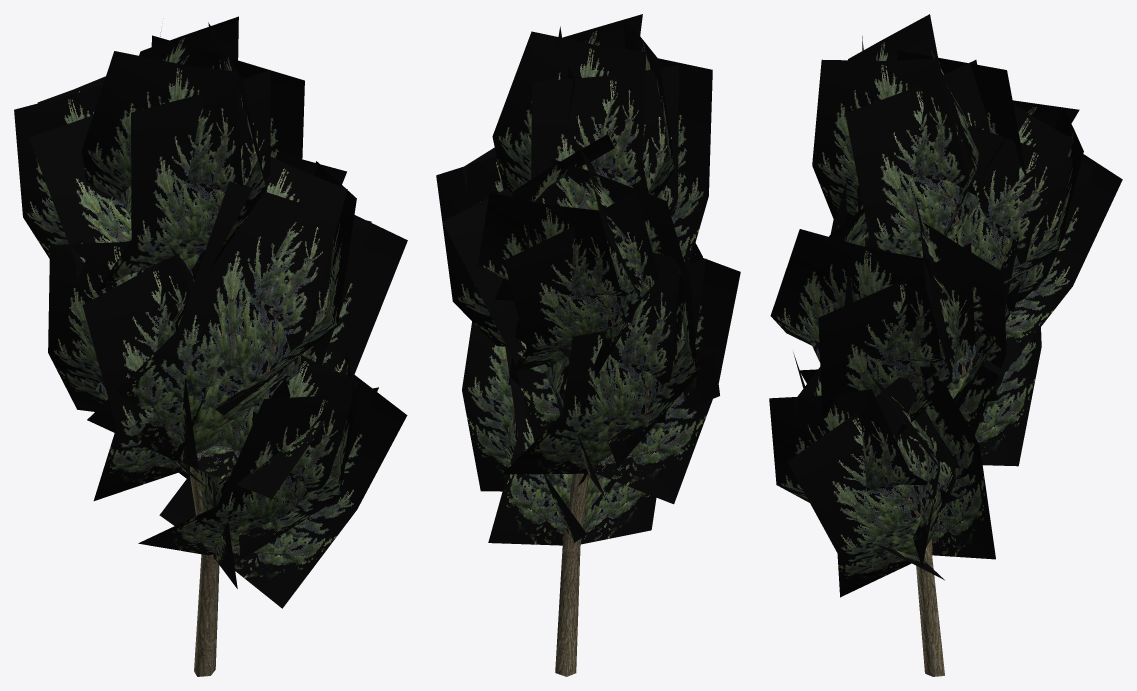
File: Tree.dae
3 renders of one model, left to right at view 1: azimuth 30°, elevation 25°; view 2: azimuth 150°, elevation 25°; view 3: azimuth 270°, elevation 25°, orthographic. The views are drawn at different scales.
Parts seen in each view (by area): view 1: Tree; view 2: Tree; view 3: Tree.
Boxes of the visible parts, x1=… form: Tree: x1=14, y1=16, x2=407, y2=676; Tree: x1=436, y1=14, x2=740, y2=676; Tree: x1=769, y1=14, x2=1122, y2=676.
Size of the model in its own units: 2.86 by 3.14 by 6.07.
2 materials, 2 textured.
